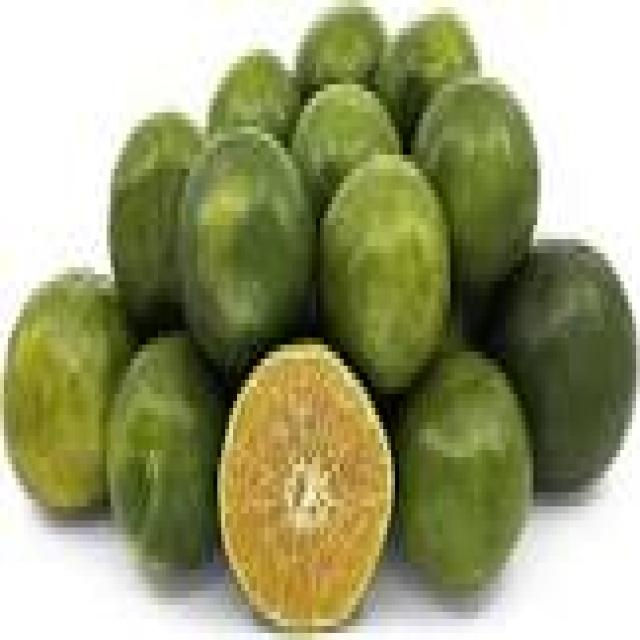orange: (217, 345, 391, 626), (490, 239, 632, 485), (391, 352, 529, 591), (178, 127, 312, 373), (4, 267, 130, 506), (320, 155, 446, 387), (107, 331, 221, 570), (411, 77, 533, 288), (107, 113, 201, 324), (292, 84, 395, 211), (375, 14, 474, 141), (209, 49, 296, 134), (296, 7, 383, 91)
